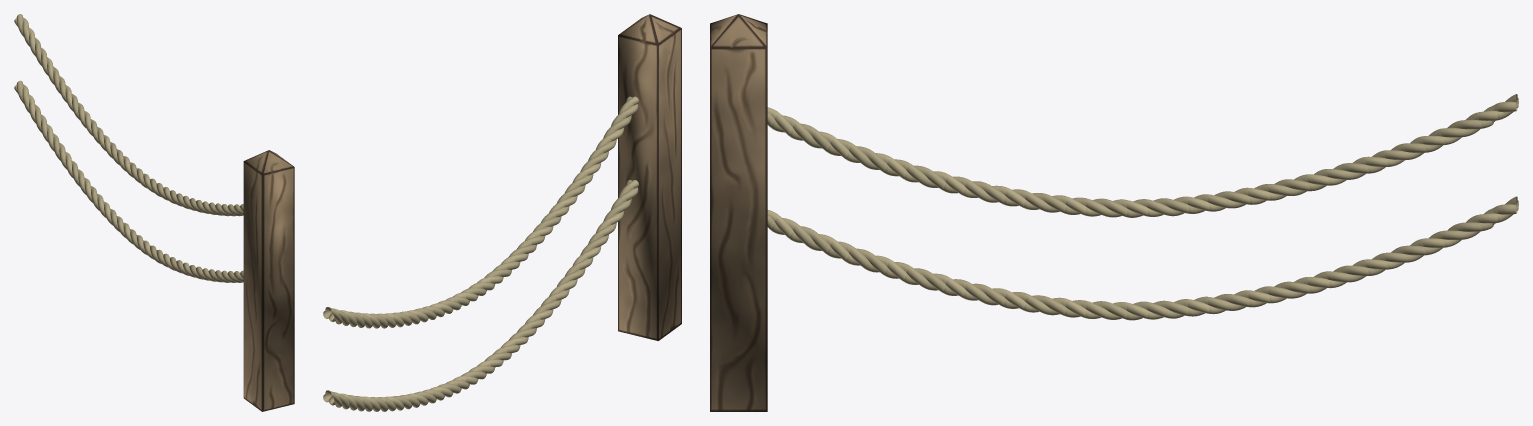
Rendered from BarriereV2.fbx.
3 views of the same model, side by side, from view 1: azimuth 30°, elevation 25°; view 2: azimuth 150°, elevation 25°; view 3: azimuth 270°, elevation 25° (orthographic). The views are drawn at different scales.
Parts seen in each view (by area): view 1: Cylinder.002; view 2: Cylinder.002; view 3: Cylinder.002.
Boxes of the visible parts, x1,y1,x2,y2 form: Cylinder.002: (14,14,294,411); Cylinder.002: (323,14,681,411); Cylinder.002: (710,14,1518,411).
Bounding box in the file's own units: 200 × 1483 × 2817.
Materials: 4 (1 with a texture image).
